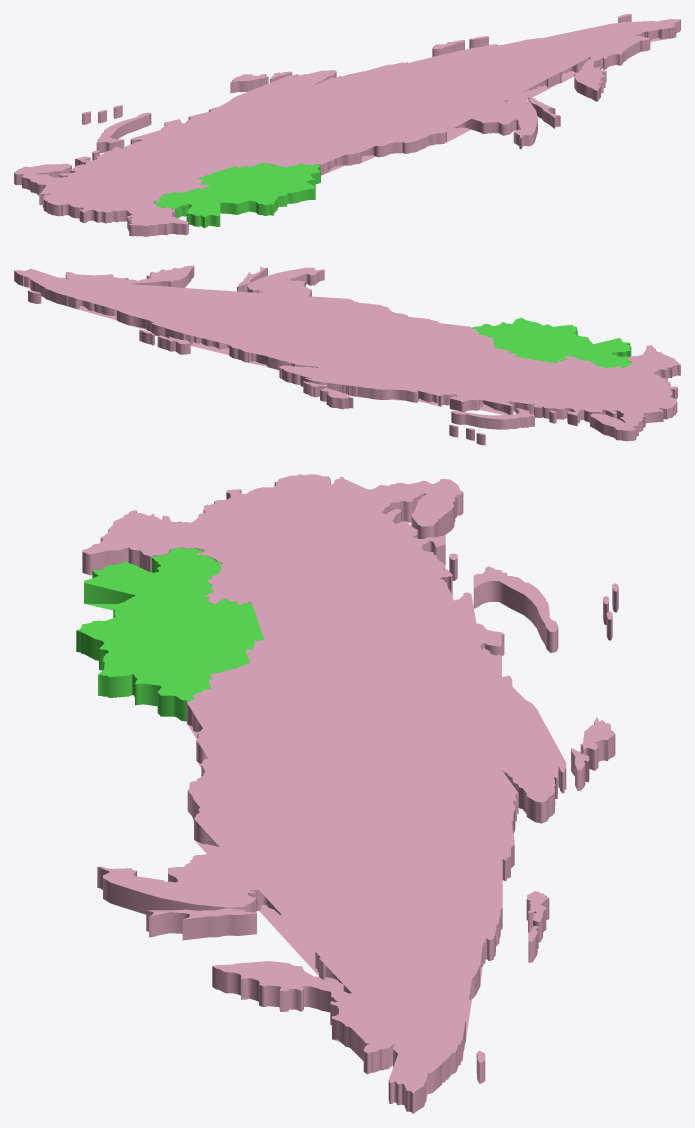
Rendered from World_map.fbx.
3 renders of one model, top to bottom at view 1: azimuth 30°, elevation 25°; view 2: azimuth 150°, elevation 25°; view 3: azimuth 270°, elevation 25°, orthographic. The views are drawn at different scales.
Visible parts, largest first — view 1: Россия, Казахстан; view 2: Россия, Казахстан; view 3: Россия, Казахстан.
Boxes of the visible parts, <box> form: Россия: <box>14,14,680,236</box>; Казахстан: <box>154,163,320,228</box>; Россия: <box>14,265,680,445</box>; Казахстан: <box>472,317,631,367</box>; Россия: <box>82,474,618,1113</box>; Казахстан: <box>76,547,263,721</box>.
Size of the model in its own units: 400 by 6.35 by 148.
